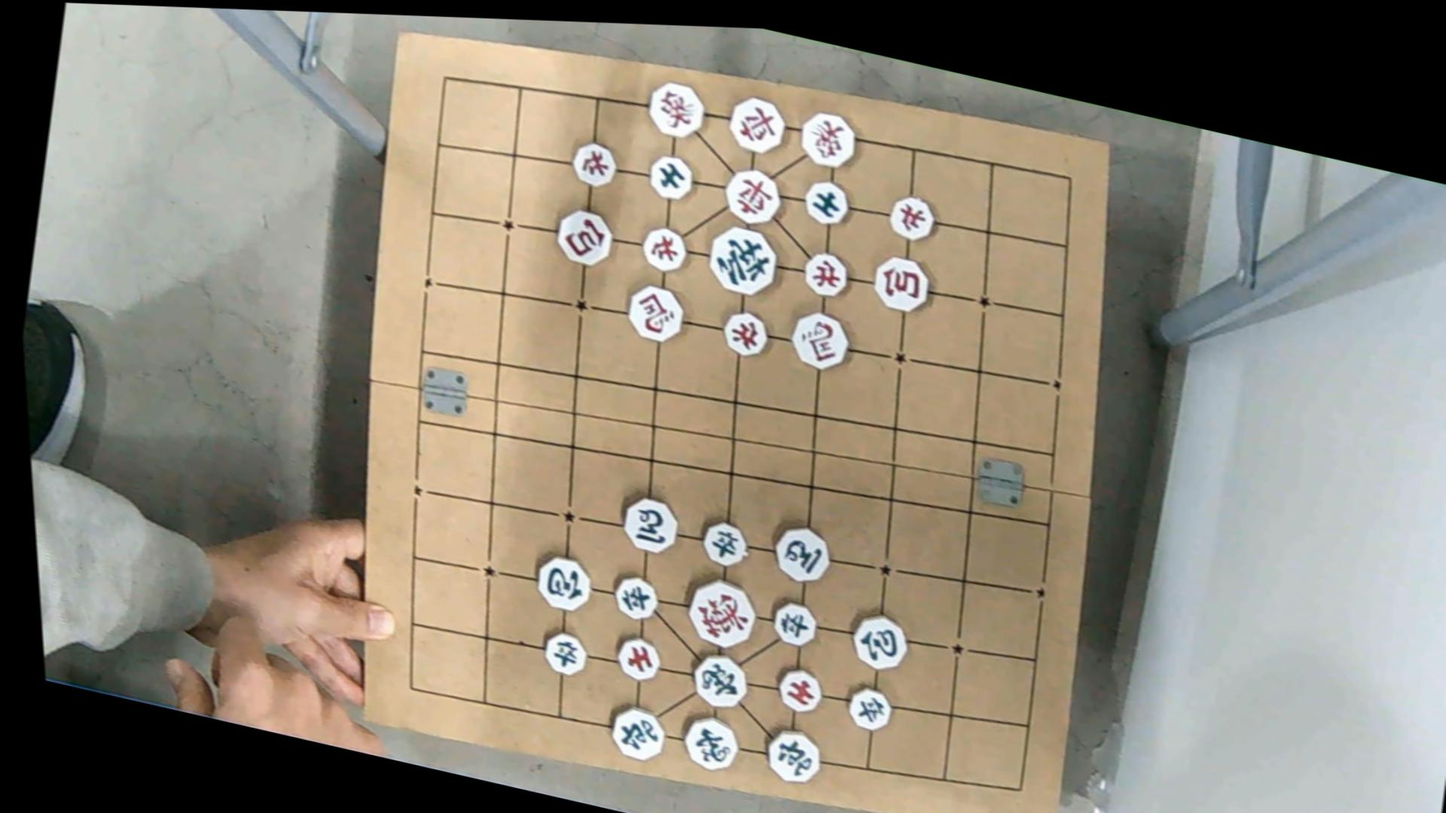cha_green: (758, 725, 829, 786), (601, 705, 670, 763)
cha_red: (716, 165, 790, 229), (721, 93, 792, 157)
jol_green: (694, 520, 754, 569), (769, 600, 825, 649), (844, 683, 900, 731), (611, 573, 664, 620), (539, 631, 593, 677)
jol_red: (715, 307, 774, 358), (882, 194, 941, 244), (636, 223, 692, 275), (797, 251, 856, 300), (565, 141, 623, 190)
ma_green: (768, 522, 838, 584), (615, 495, 685, 556)
ma_red: (787, 306, 856, 374), (621, 282, 692, 345)
po_green: (529, 551, 599, 614), (845, 611, 915, 672)
po_red: (550, 206, 621, 267), (865, 256, 935, 317)
sa_green: (797, 178, 856, 227), (643, 153, 700, 202)
sa_red: (772, 665, 828, 717), (610, 636, 668, 684)
sang_green: (676, 712, 747, 773), (685, 651, 757, 711)
sang_red: (639, 78, 711, 141), (795, 109, 865, 170)
wang_green: (701, 223, 786, 297)
wang_red: (678, 574, 767, 650)
